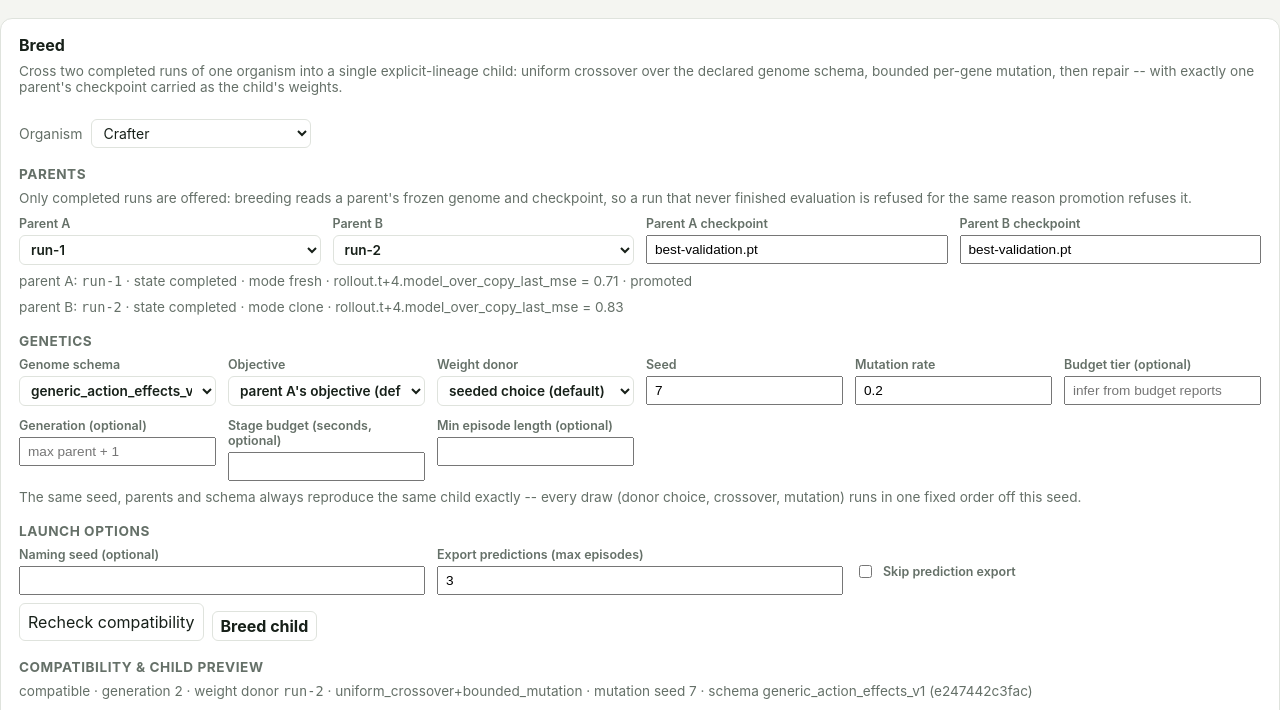
Scenario: BreedPanel › never previews or launches a run crossed with itself
The image size is (1280, 710).
expect the dropdown labelled "Parent A" shows "run-1": met, box left=19, top=235, right=320, bottom=265
Select "run-1" in the dropdown labelled "Parent B": (483, 250) left=332, top=235, right=634, bottom=265
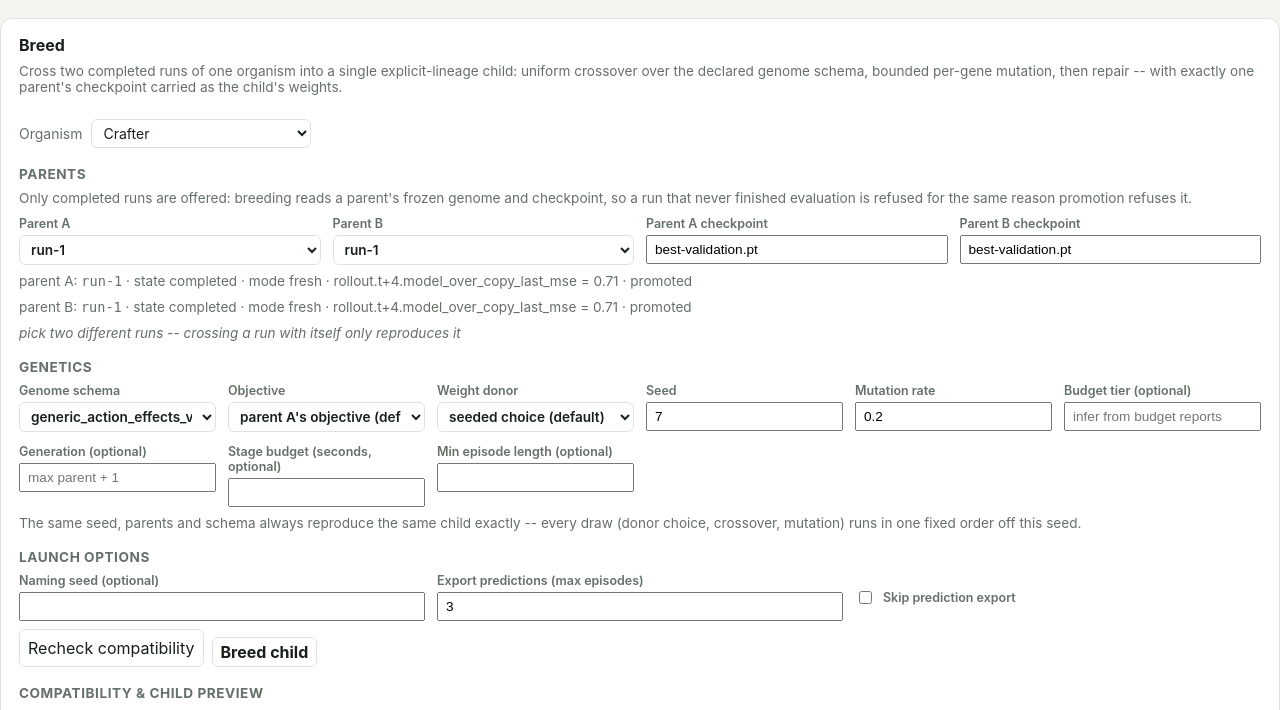
expect the text "pick two different runs" is shown: met, box left=19, top=325, right=461, bottom=341
expect the button "Breed child" is disabled: met, box left=212, top=637, right=317, bottom=667
expect the element with test id "breed-summary" is gone: met
